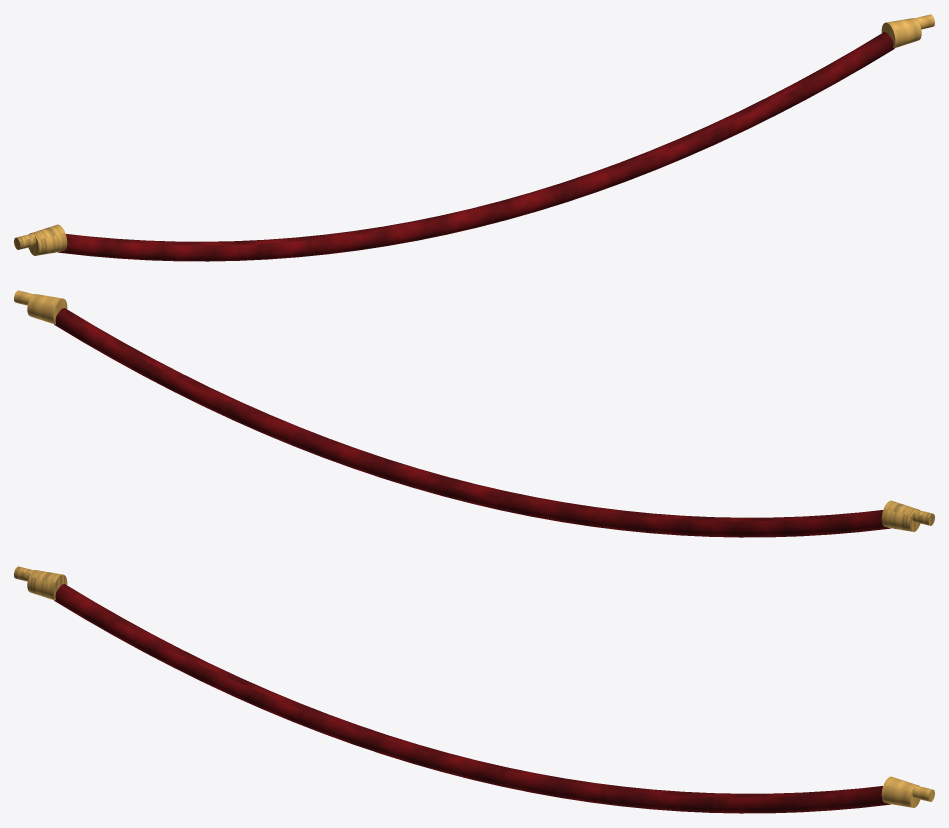
Rendered from rope.gltf.
3 renders of one model, top to bottom at view 1: azimuth 30°, elevation 25°; view 2: azimuth 150°, elevation 25°; view 3: azimuth 330°, elevation 25°, orthographic.
Parts seen in each view (by area): view 1: Rope; view 2: Rope; view 3: Rope.
Part boxes in pixels (x1,y1,x2,y2): Rope: [14, 14, 934, 261]; Rope: [14, 290, 934, 537]; Rope: [14, 566, 934, 813].
Bounding box in the file's own units: 2.01 × 0.215 × 0.052.
2 materials, 2 textured.
